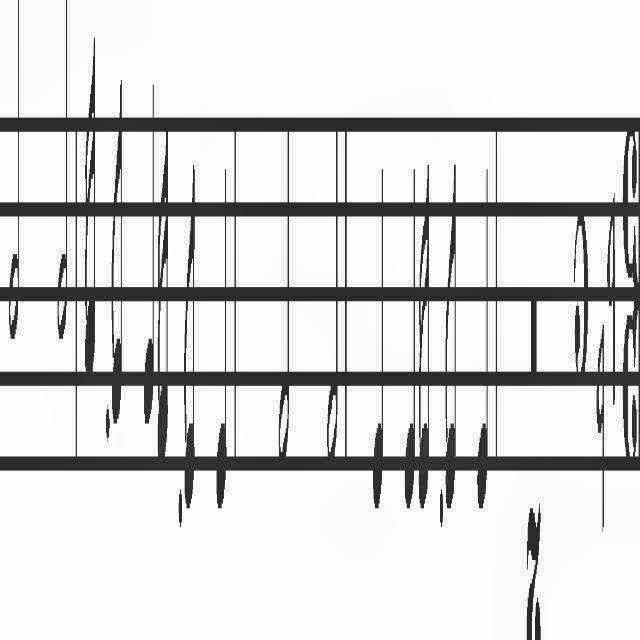Bemol: (606, 181, 616, 427), (595, 306, 605, 548)
Eighth-note: (183, 151, 197, 521), (110, 70, 124, 423), (444, 152, 456, 514)
Half-note: (7, 0, 20, 352), (278, 115, 290, 468), (57, 0, 69, 352), (326, 117, 338, 467)
Quarter-note: (215, 158, 229, 518), (404, 150, 416, 518), (476, 155, 488, 518), (142, 67, 154, 427), (372, 162, 384, 518)
Sixteenth-note: (156, 113, 170, 470), (418, 155, 430, 518), (84, 27, 96, 390)
